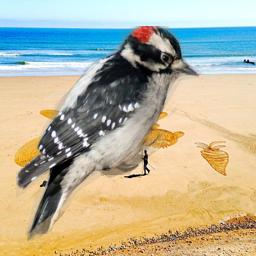Woodpecker: (16, 26, 206, 244)
